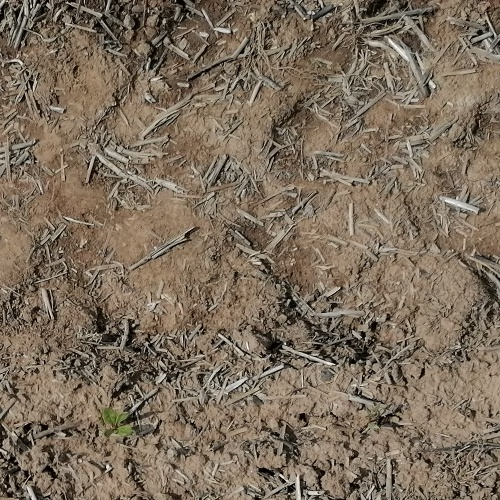beet: (100, 405, 132, 437)
